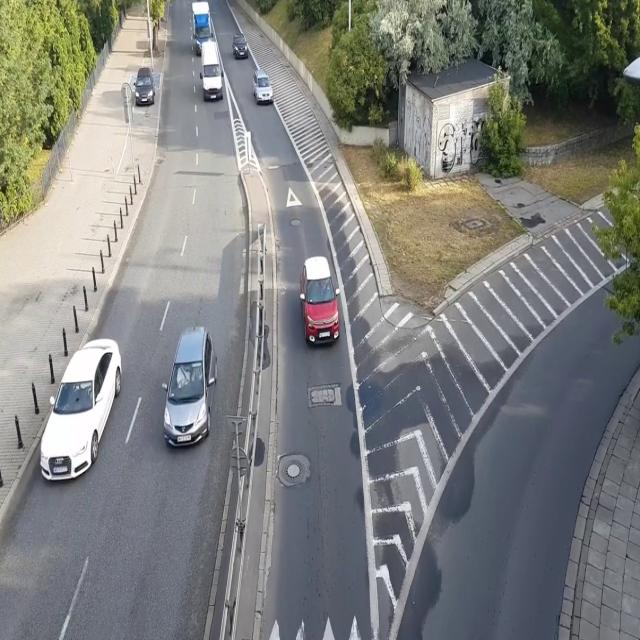car: (39, 335, 122, 482), (161, 323, 217, 449), (298, 256, 342, 350), (133, 67, 155, 106), (252, 67, 274, 105), (232, 33, 248, 61)
truck: (191, 1, 213, 56)
van: (200, 40, 224, 102)
